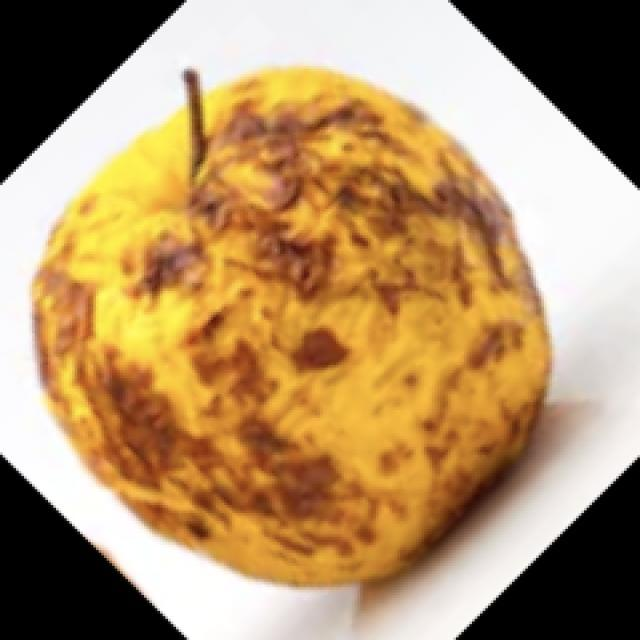Rotten: (73, 78, 560, 575)
